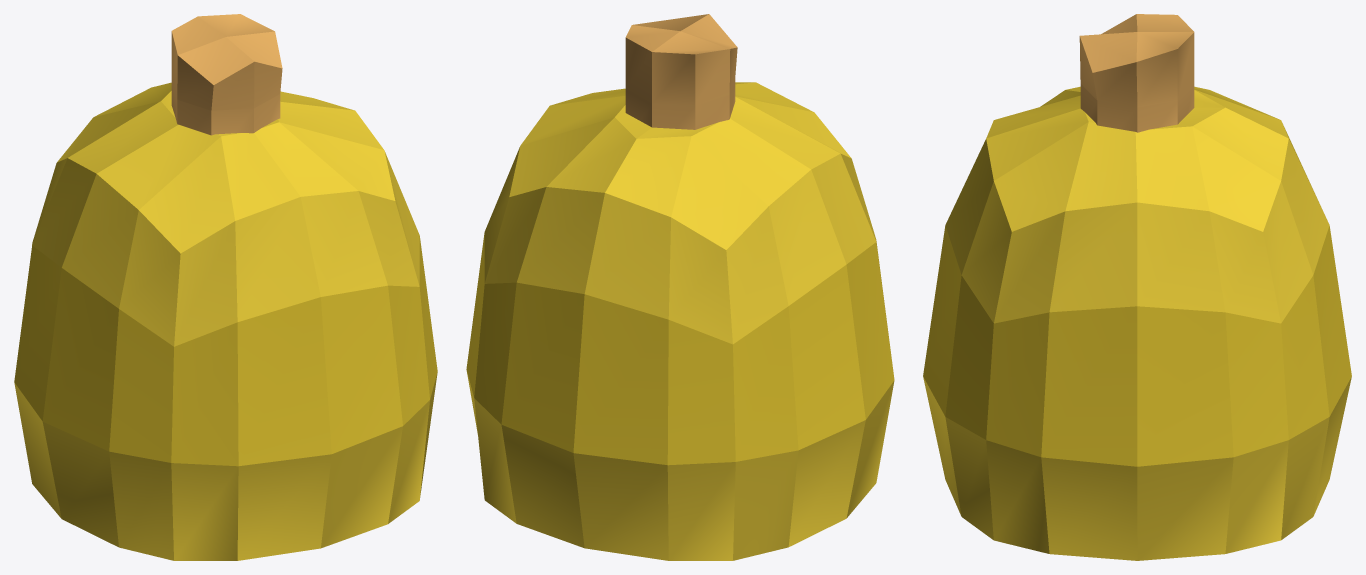
Rendered from Bottle_2.fbx.
The picture shows the model from 3 angles, left to right: view 1: azimuth 30°, elevation 25°; view 2: azimuth 150°, elevation 25°; view 3: azimuth 270°, elevation 25°; orthographic projection.
Parts seen in each view (by area): view 1: Bottle_2; view 2: Bottle_2; view 3: Bottle_2.
Part boxes in pixels (box(x1,y1,x2,y2)): Bottle_2: box(14, 14, 437, 560); Bottle_2: box(466, 14, 894, 560); Bottle_2: box(923, 14, 1351, 560).
Size of the model in its own units: 30.16 by 34.75 by 30.16.
